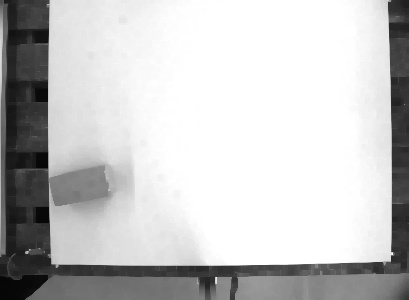b2: (44, 163, 116, 209)
